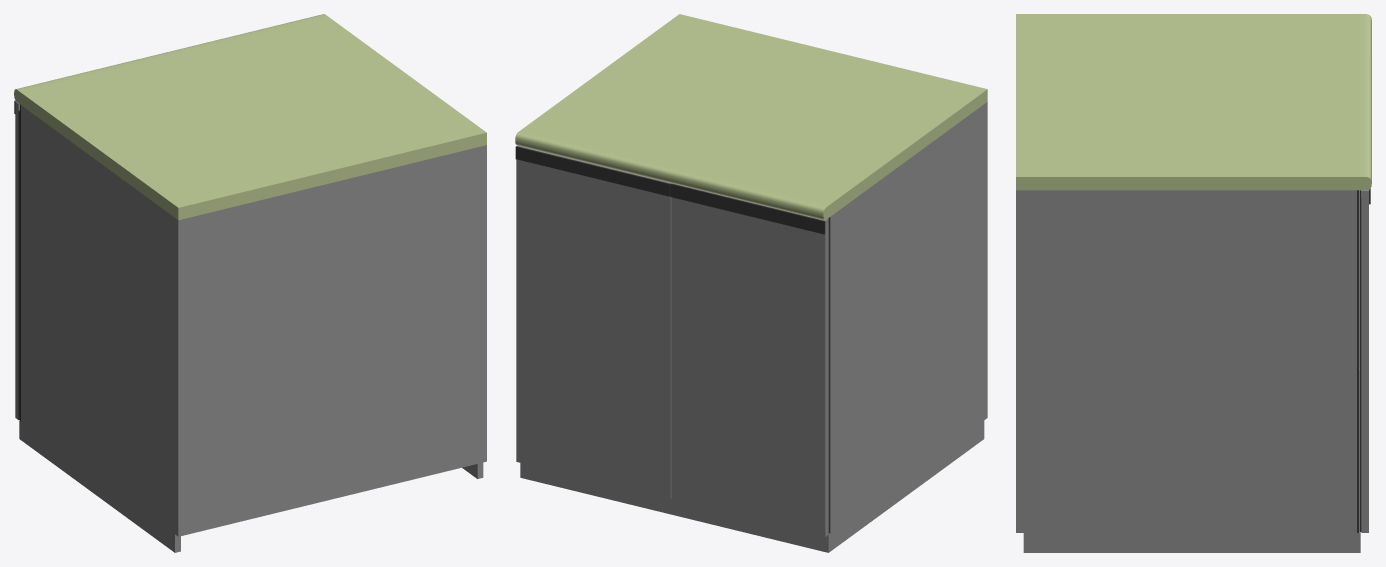
File: Kitchen_curbstone_1.FBX
3 renders of one model, left to right at view 1: azimuth 30°, elevation 25°; view 2: azimuth 150°, elevation 25°; view 3: azimuth 270°, elevation 25°, orthographic. The views are drawn at different scales.
Visible parts, largest first — view 1: Kitchen_curbstone_1, Kitchen_curbstone_1_door2; view 2: Kitchen_curbstone_1, Kitchen_curbstone_1_door2, Kitchen_curbstone_1_door1; view 3: Kitchen_curbstone_1, Kitchen_curbstone_1_door1.
Part boxes in pixels (box(x1,y1,x2,y2)): Kitchen_curbstone_1: box(14, 14, 486, 552); Kitchen_curbstone_1_door2: box(14, 100, 19, 420); Kitchen_curbstone_1: box(515, 14, 987, 552); Kitchen_curbstone_1_door2: box(670, 183, 829, 536); Kitchen_curbstone_1_door1: box(515, 145, 671, 499); Kitchen_curbstone_1: box(1016, 14, 1371, 552); Kitchen_curbstone_1_door1: box(1359, 188, 1370, 532).
Size of the model in its own units: 41.02 by 44.09 by 37.8.
